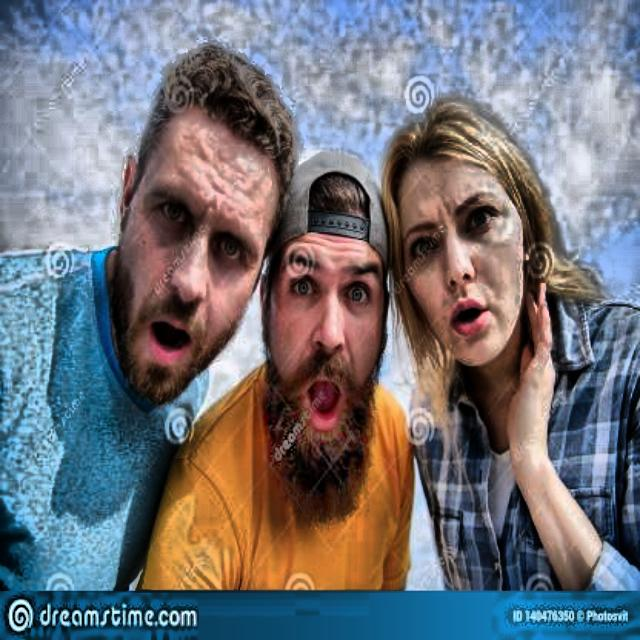surprised: (82, 45, 300, 406), (249, 136, 399, 520), (382, 107, 540, 408)
